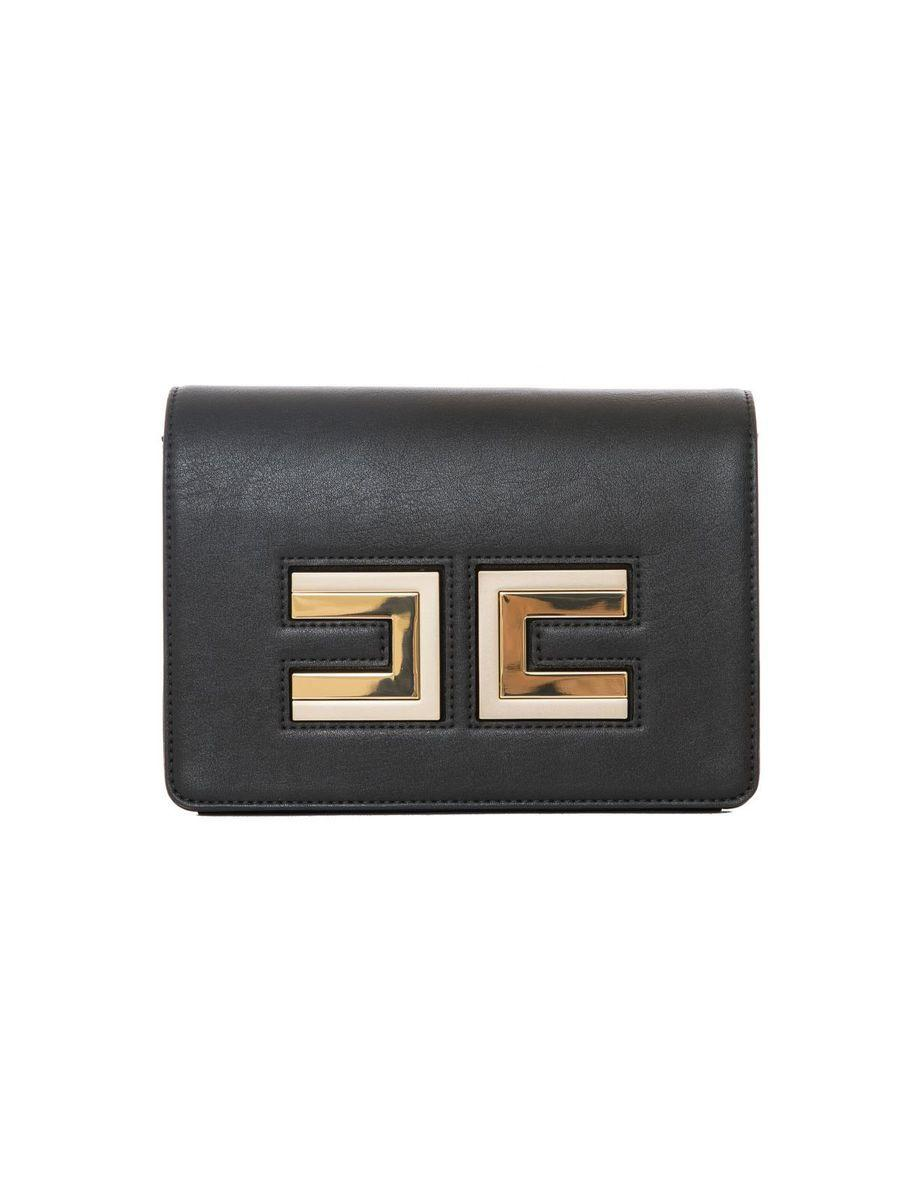ELISABETTA-FRANCHI: (271, 554, 654, 742)
